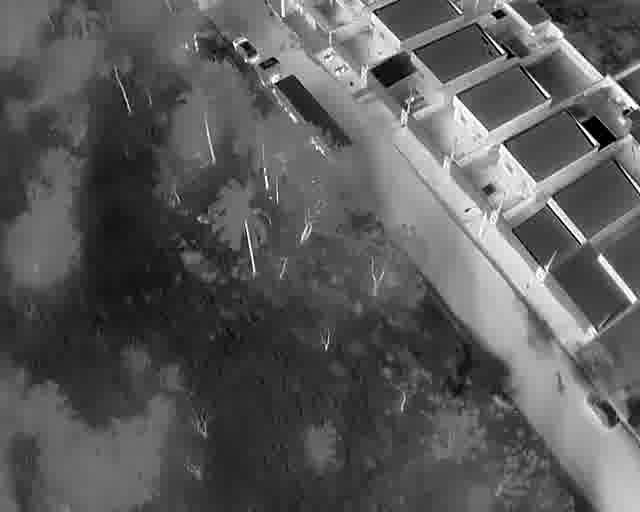car: (585, 389, 620, 429), (232, 36, 259, 63), (475, 183, 497, 199)
truck: (254, 55, 352, 160)
